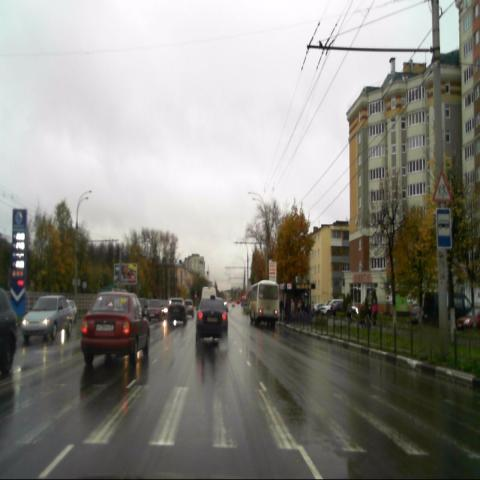1_23: (433, 172, 452, 205)
